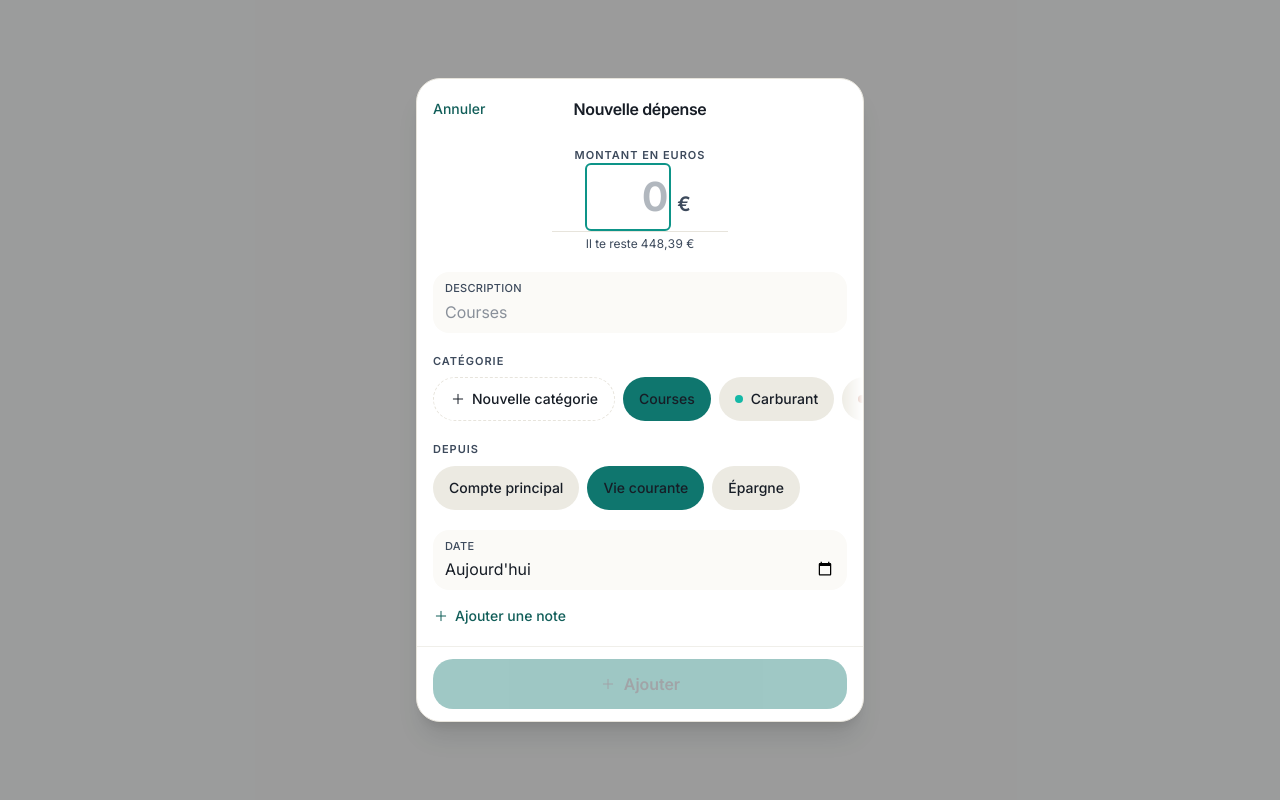
AddExpenseSheet — créer une catégorie › Échap referme la ligne SANS fermer la feuille ni perdre le montant
expect the text "Il te reste 448,39 €" is shown: met, box left=586, top=236, right=694, bottom=252
Type "18,50" into the field with test id "add-expense-amount" at {"x": 628, "y": 197}, box left=589, top=167, right=667, bottom=227
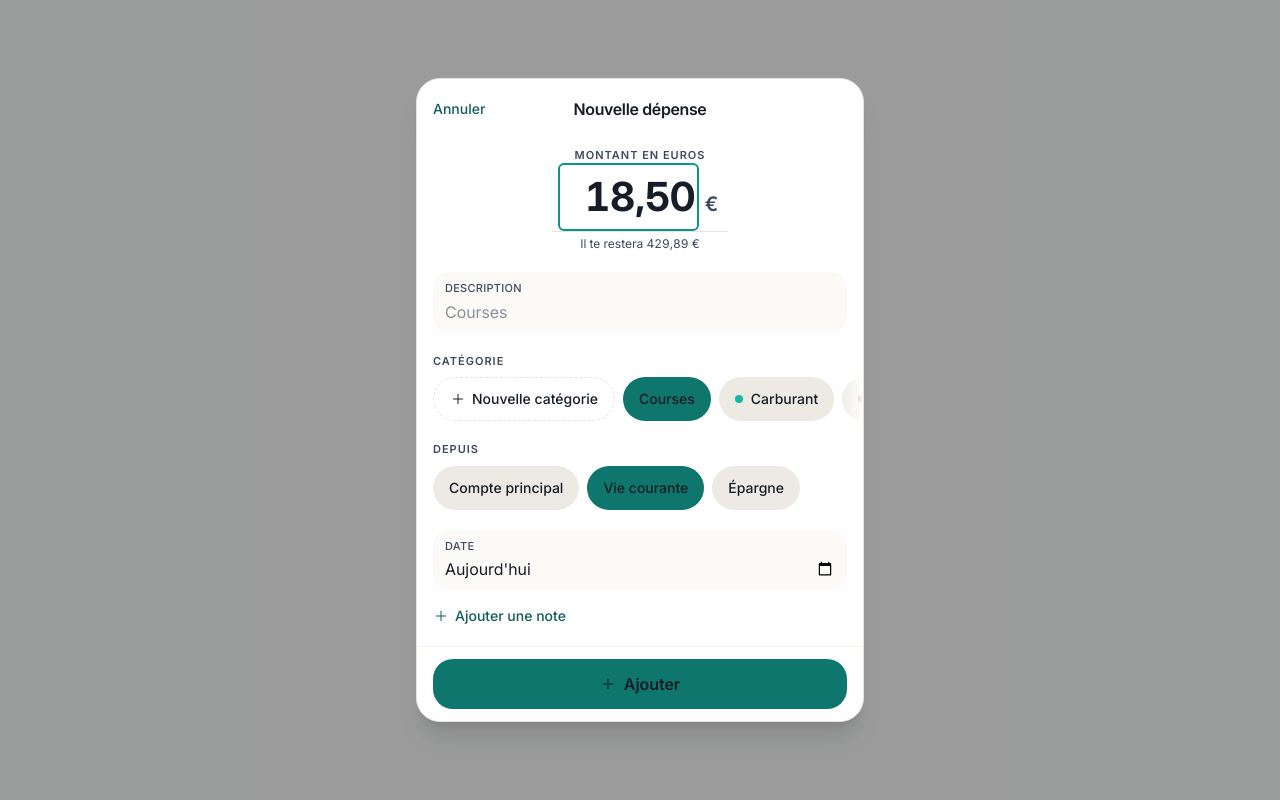
Click the button with test id "add-expense-new-category" at {"x": 524, "y": 399}, box left=433, top=377, right=615, bottom=421
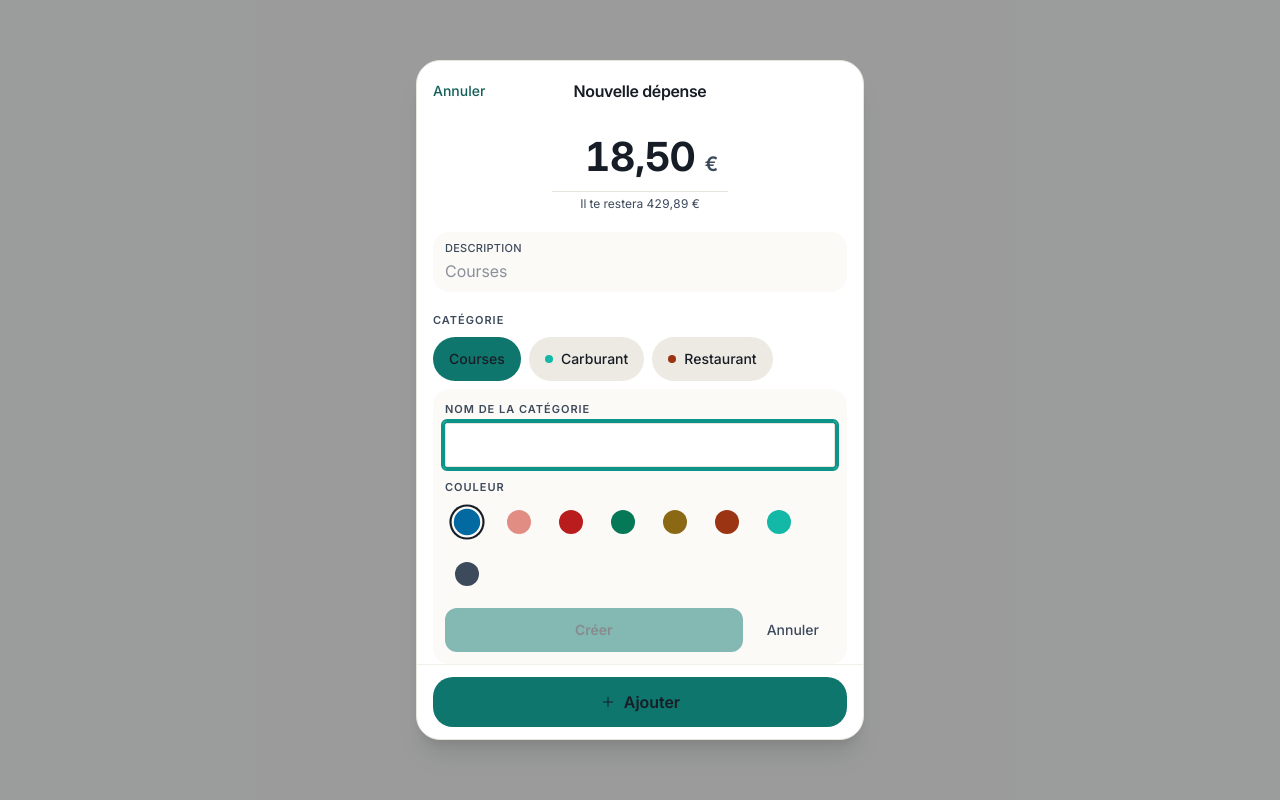
Type "Coiffeur" into the field with test id "add-expense-new-category-name" at {"x": 640, "y": 445}, box left=445, top=423, right=835, bottom=467
Then press Escape
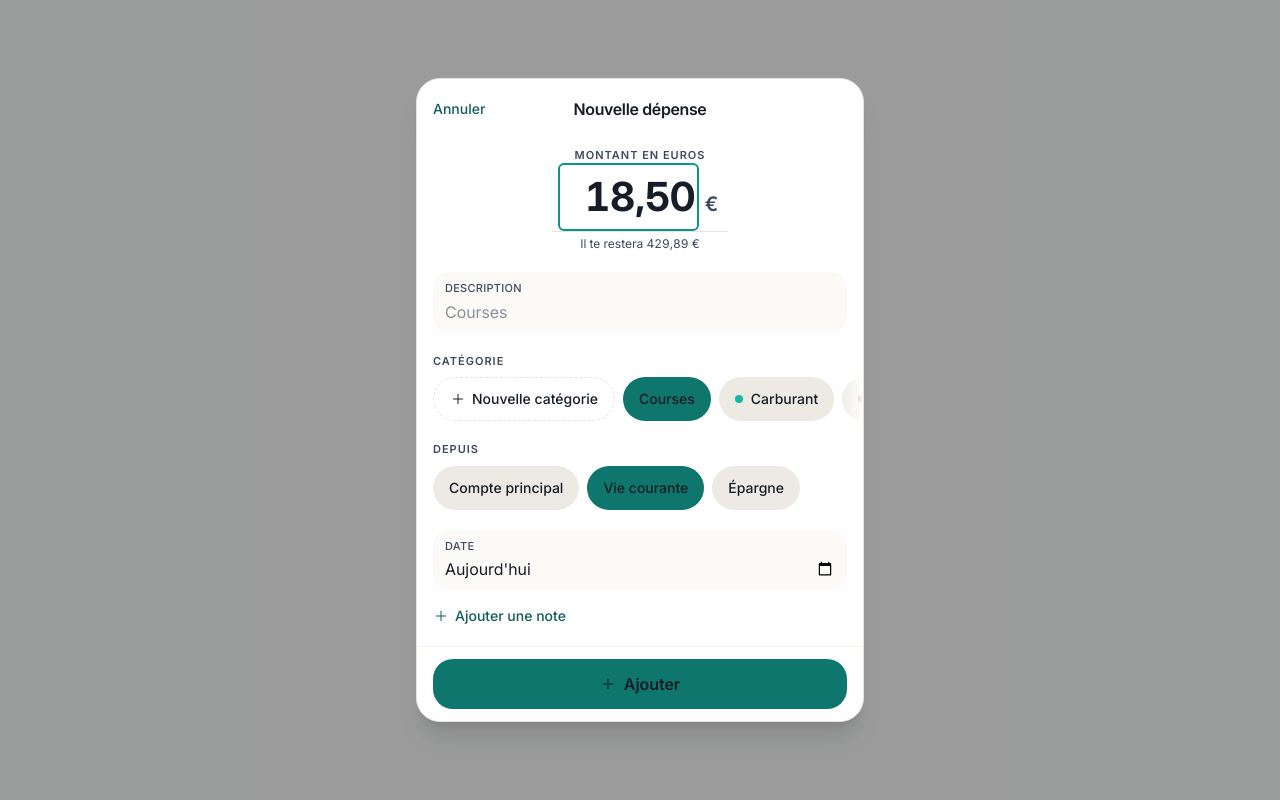
expect the label with test id "add-expense-new-category-name" is gone: met
